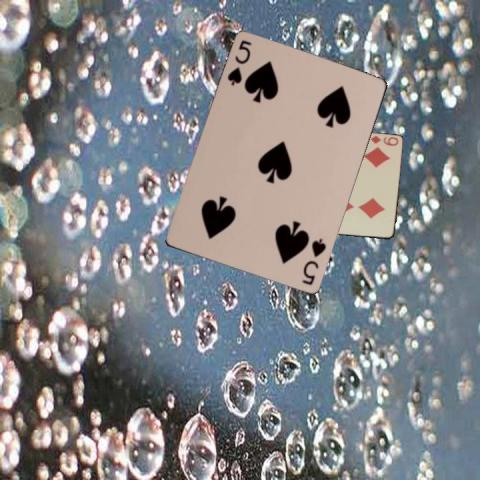5s: (299, 236, 328, 287), (224, 38, 253, 88)
9d: (368, 133, 400, 147)
